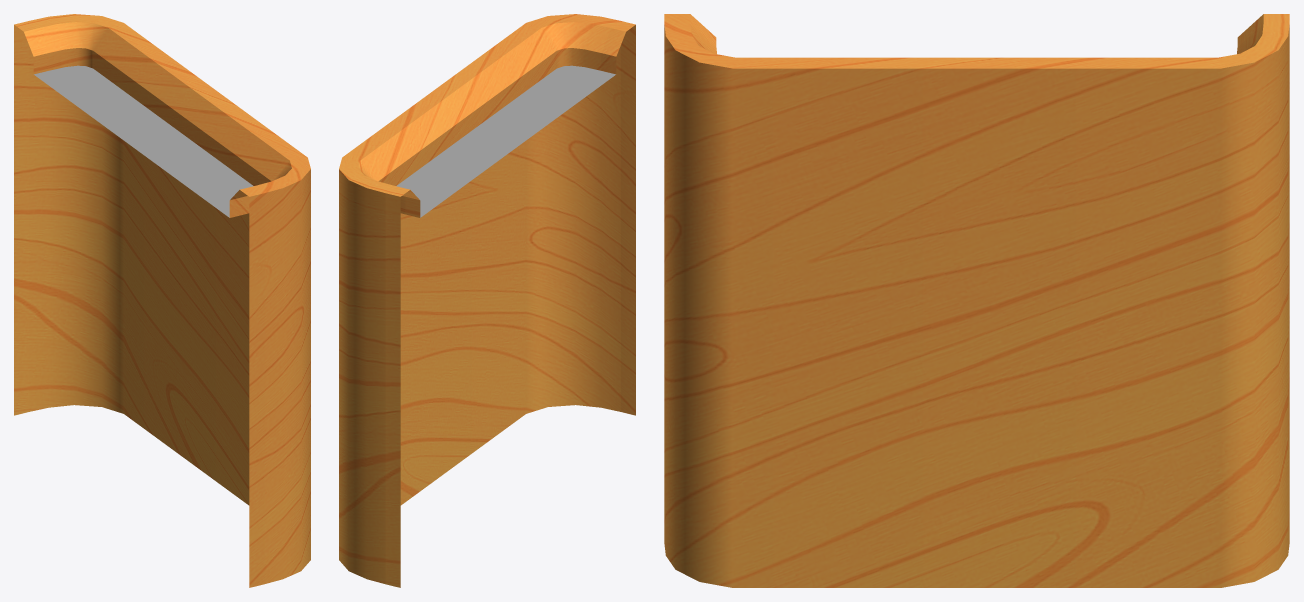
File: lineup_start_end.fbx
3 renders of one model, left to right at view 1: azimuth 30°, elevation 25°; view 2: azimuth 150°, elevation 25°; view 3: azimuth 270°, elevation 25°, orthographic. The views are drawn at different scales.
Parts seen in each view (by area): view 1: lineup_start_end; view 2: lineup_start_end; view 3: lineup_start_end.
Boxes of the visible parts, <box> form: lineup_start_end: <box>14,14,310,587</box>; lineup_start_end: <box>339,14,635,587</box>; lineup_start_end: <box>664,14,1289,587</box>.
Size of the model in its own units: 0.2477 by 1.1 by 1.2.
